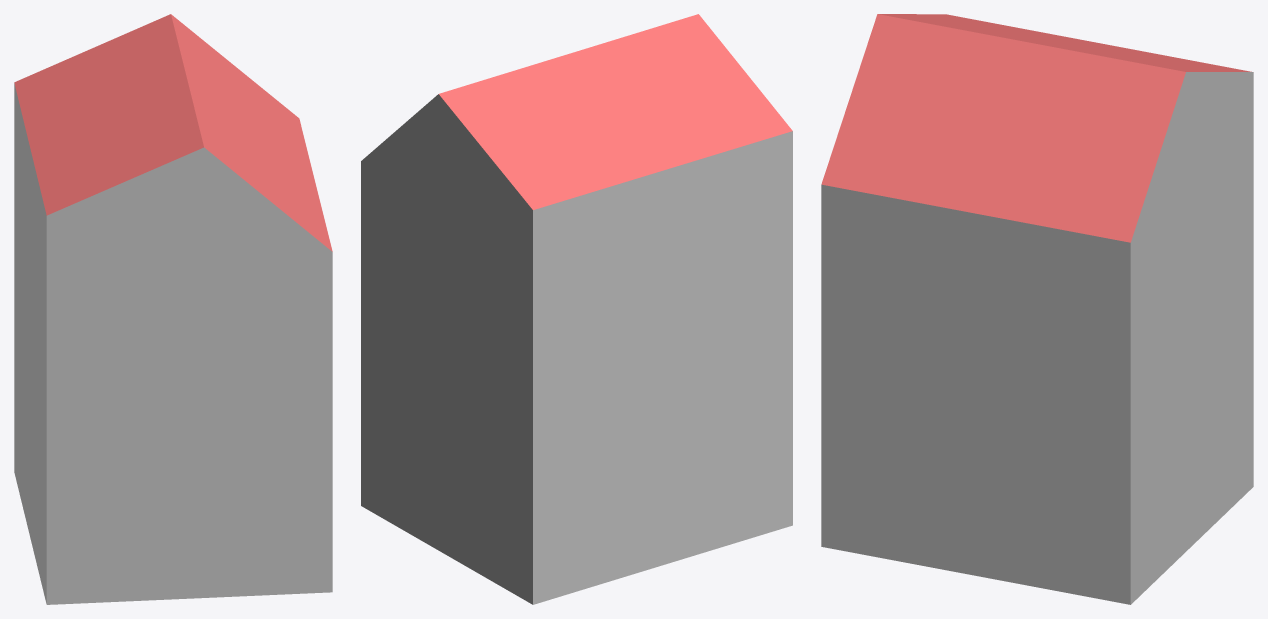
File: DEBY_LOD2_4907157.gltf
3 renders of one model, left to right at view 1: azimuth 30°, elevation 25°; view 2: azimuth 150°, elevation 25°; view 3: azimuth 270°, elevation 25°, orthographic. The views are drawn at different scales.
Parts seen in each view (by area): view 1: Z_UP; view 2: Z_UP; view 3: Z_UP.
Boxes of the visible parts, bbox=[...] form: Z_UP: bbox=[14, 14, 332, 604]; Z_UP: bbox=[361, 14, 792, 604]; Z_UP: bbox=[821, 14, 1253, 604].
Size of the model in its own units: 15.52 by 19.69 by 16.08.
